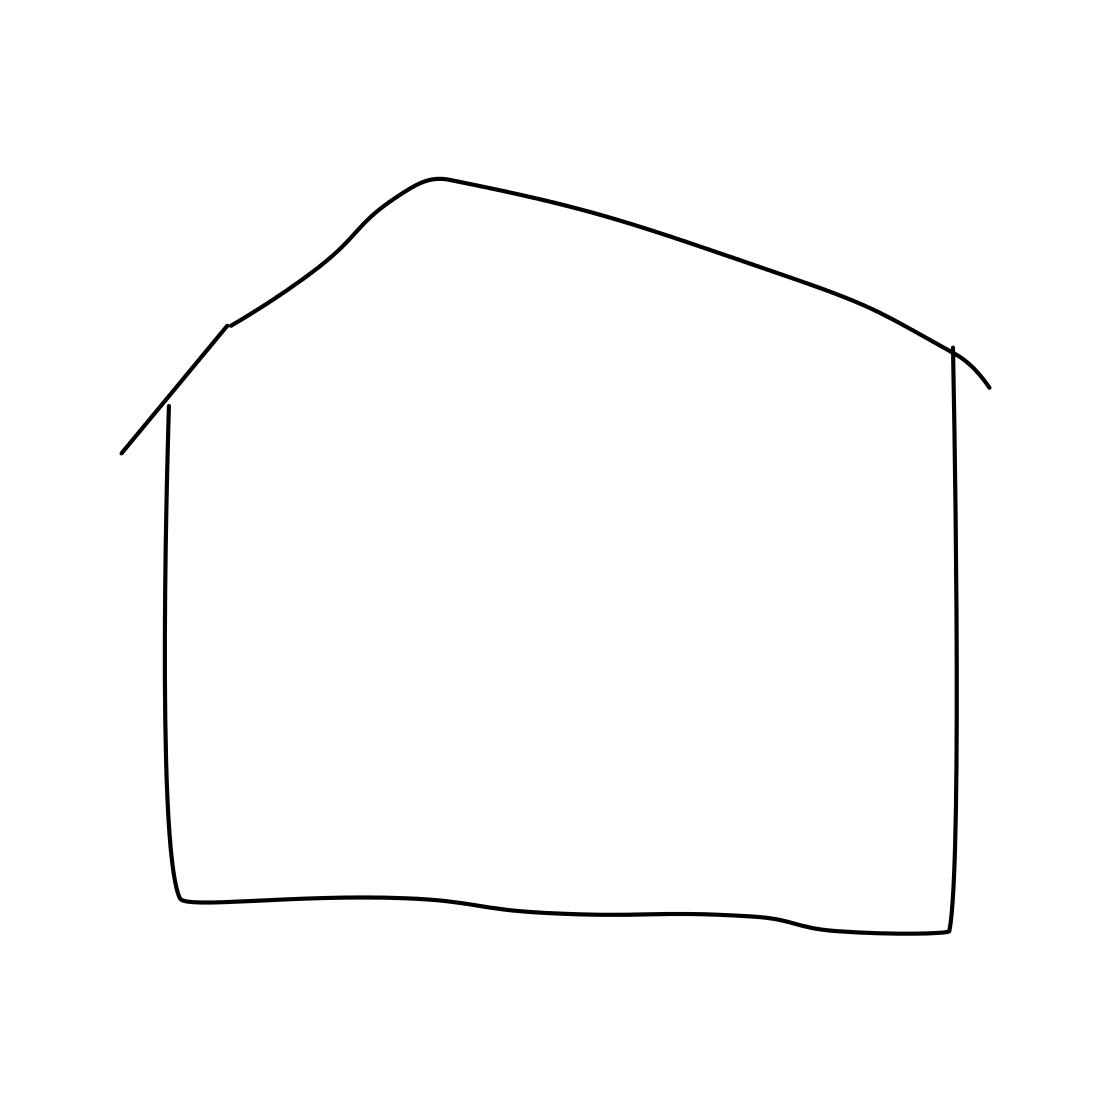House: (31, 126, 1019, 950)
